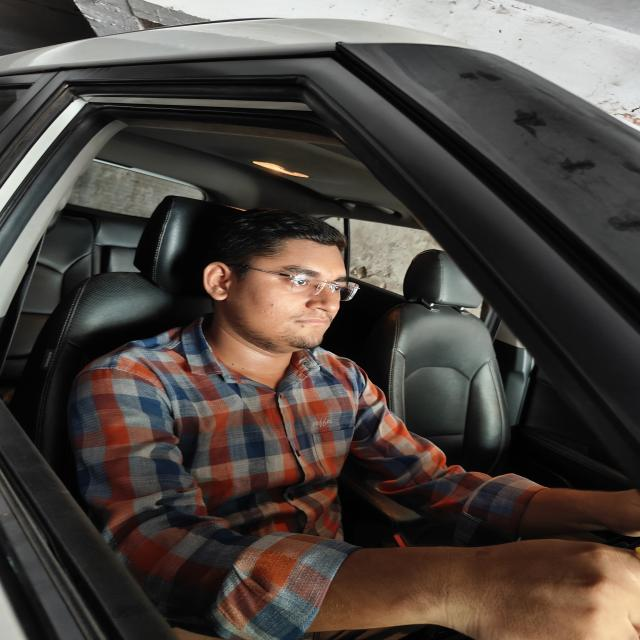no-seatbelt: (89, 367, 369, 558)
